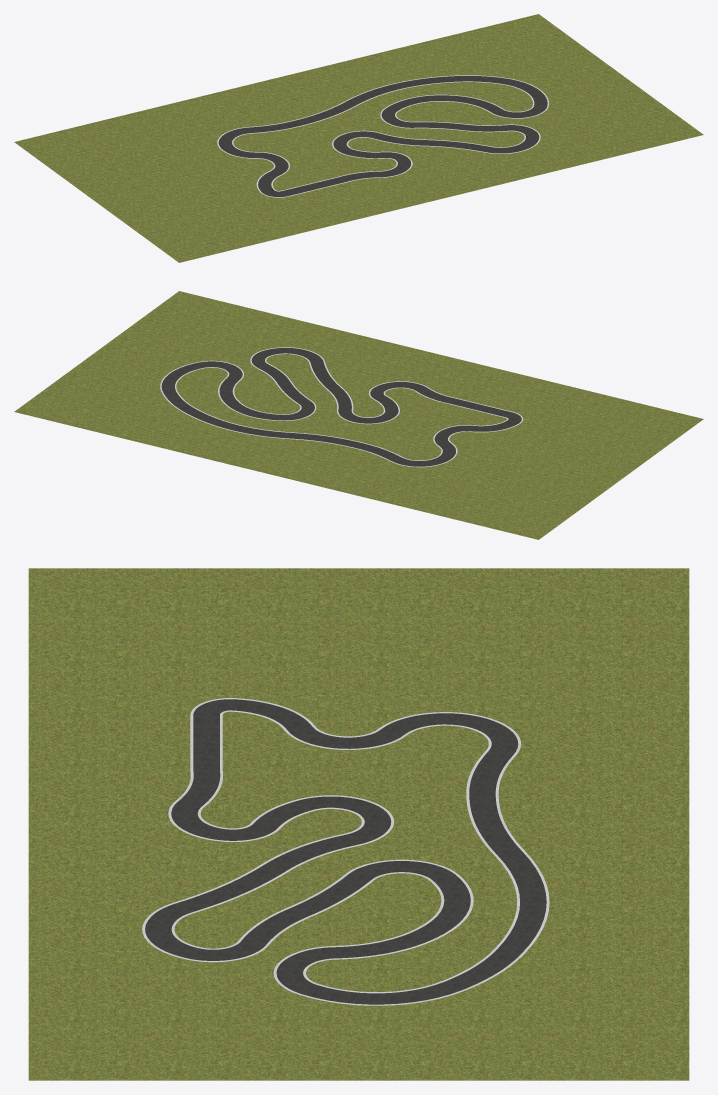
The model's file is track16.dae.
3 views of the same model, one above another, from view 1: azimuth 30°, elevation 25°; view 2: azimuth 150°, elevation 25°; view 3: azimuth 270°, elevation 25° (orthographic). The views are drawn at different scales.
Visible parts, largest first — view 1: field, road, outerline, innerline; view 2: field, road, outerline, innerline; view 3: field, road, outerline, innerline.
Boxes of the visible parts, x1,y1,x2,y2 form: field: [14, 14, 703, 262]; road: [218, 76, 547, 196]; outerline: [217, 75, 548, 197]; innerline: [232, 81, 534, 191]; field: [14, 291, 703, 539]; road: [161, 348, 521, 466]; outerline: [160, 347, 523, 467]; innerline: [175, 353, 508, 460]; field: [28, 568, 689, 1080]; road: [145, 699, 546, 1004]; outerline: [142, 698, 549, 1005]; innerline: [171, 710, 519, 993].
Bounding box in the file's own units: 74.83 × 40.8 × 0.01.
3 materials, 3 textured.
